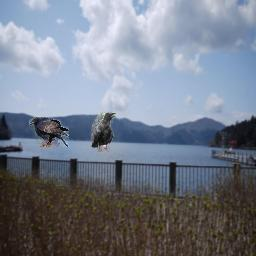Crow: (29, 117, 69, 147), (91, 112, 116, 152)
